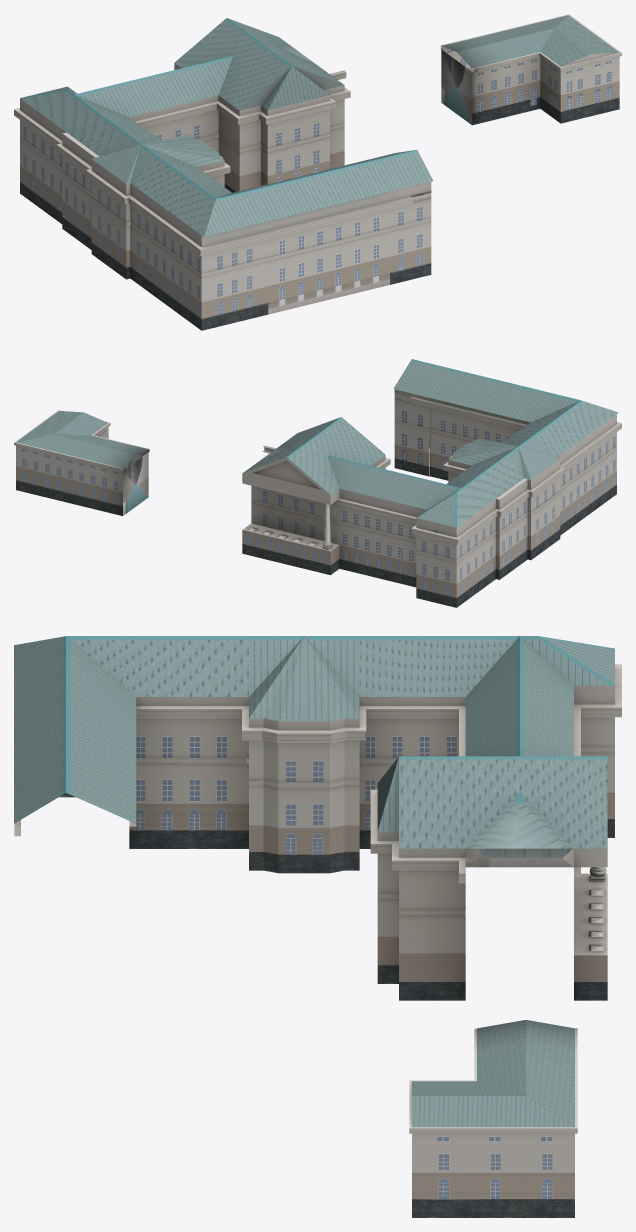
Rendered from DniprovskaPolitehnika_poli_h+poli_l.gltf.
3 renders of one model, top to bottom at view 1: azimuth 30°, elevation 25°; view 2: azimuth 150°, elevation 25°; view 3: azimuth 270°, elevation 25°, orthographic. The views are drawn at different scales.
Visible parts, largest first — view 1: 424467c7-3342-44ab-b98c-11976b2d5aea; view 2: 424467c7-3342-44ab-b98c-11976b2d5aea; view 3: 424467c7-3342-44ab-b98c-11976b2d5aea.
Boxes of the visible parts, x1=… form: 424467c7-3342-44ab-b98c-11976b2d5aea: x1=14, y1=14, x2=621, y2=330; 424467c7-3342-44ab-b98c-11976b2d5aea: x1=14, y1=359, x2=621, y2=607; 424467c7-3342-44ab-b98c-11976b2d5aea: x1=14, y1=636, x2=621, y2=1217.
Bounding box in the file's own units: 85.74 × 19 × 51.5.
Materials: 6 (6 with a texture image).
